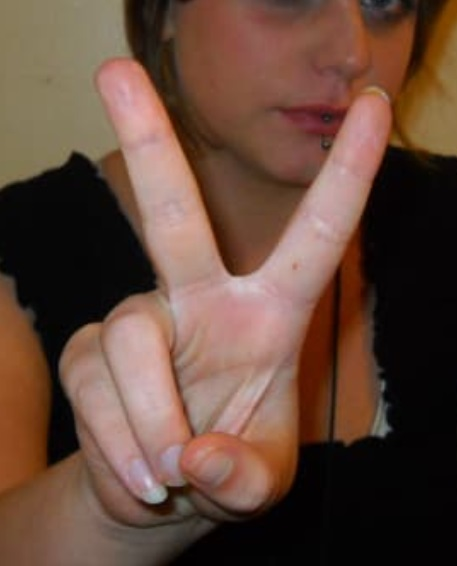peace: (57, 56, 394, 533)
